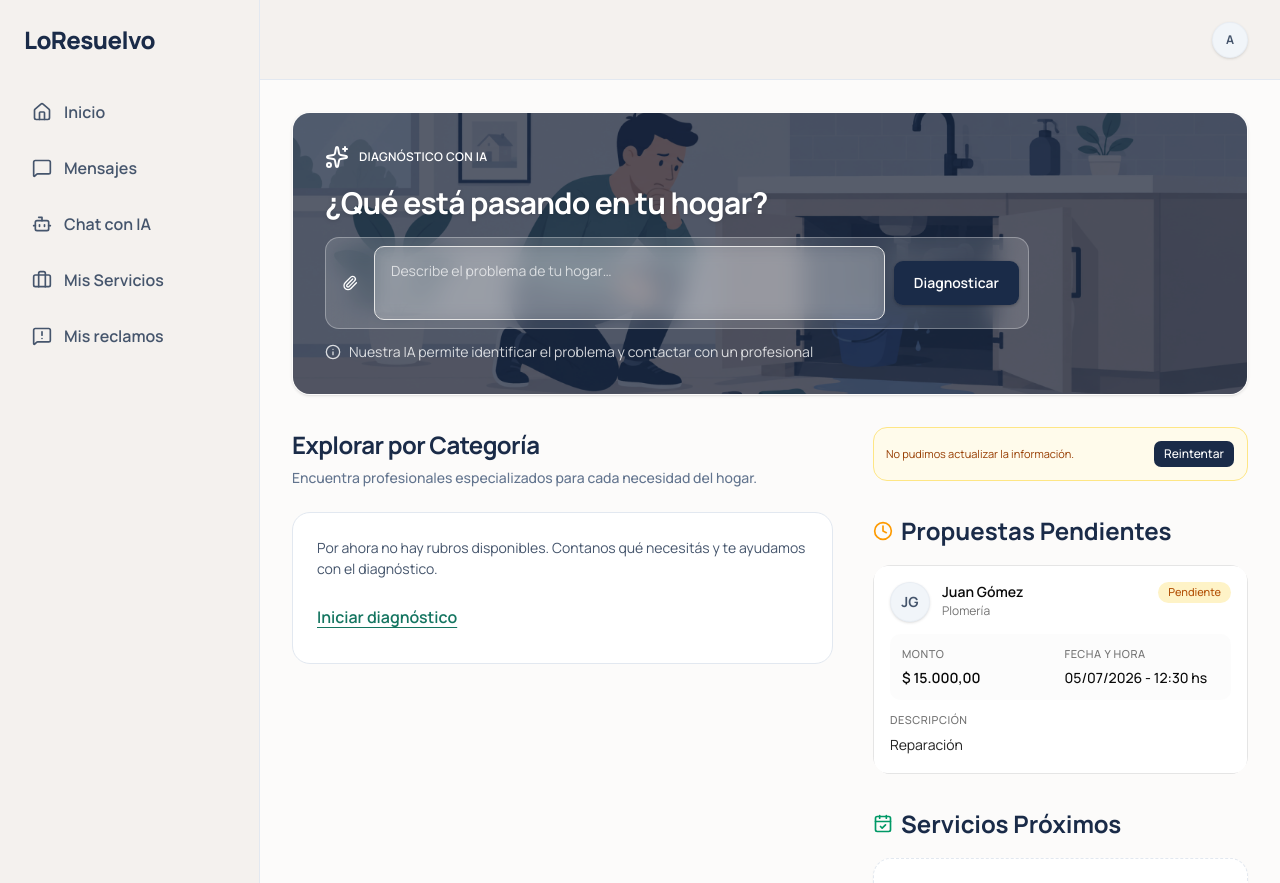
Test: ConsumerHome › preserves visible proposals and recovers after a failed refresh
Expected: the heading "Juan Gómez" is shown, top-left (942, 585), bottom-right (1024, 599)
Expected: the message shows "No pudimos actualizar la información.", top-left (886, 446), bottom-right (1074, 461)
Click the button "Reintentar" at (1194, 454), box top-left (1153, 440), bottom-right (1235, 468)
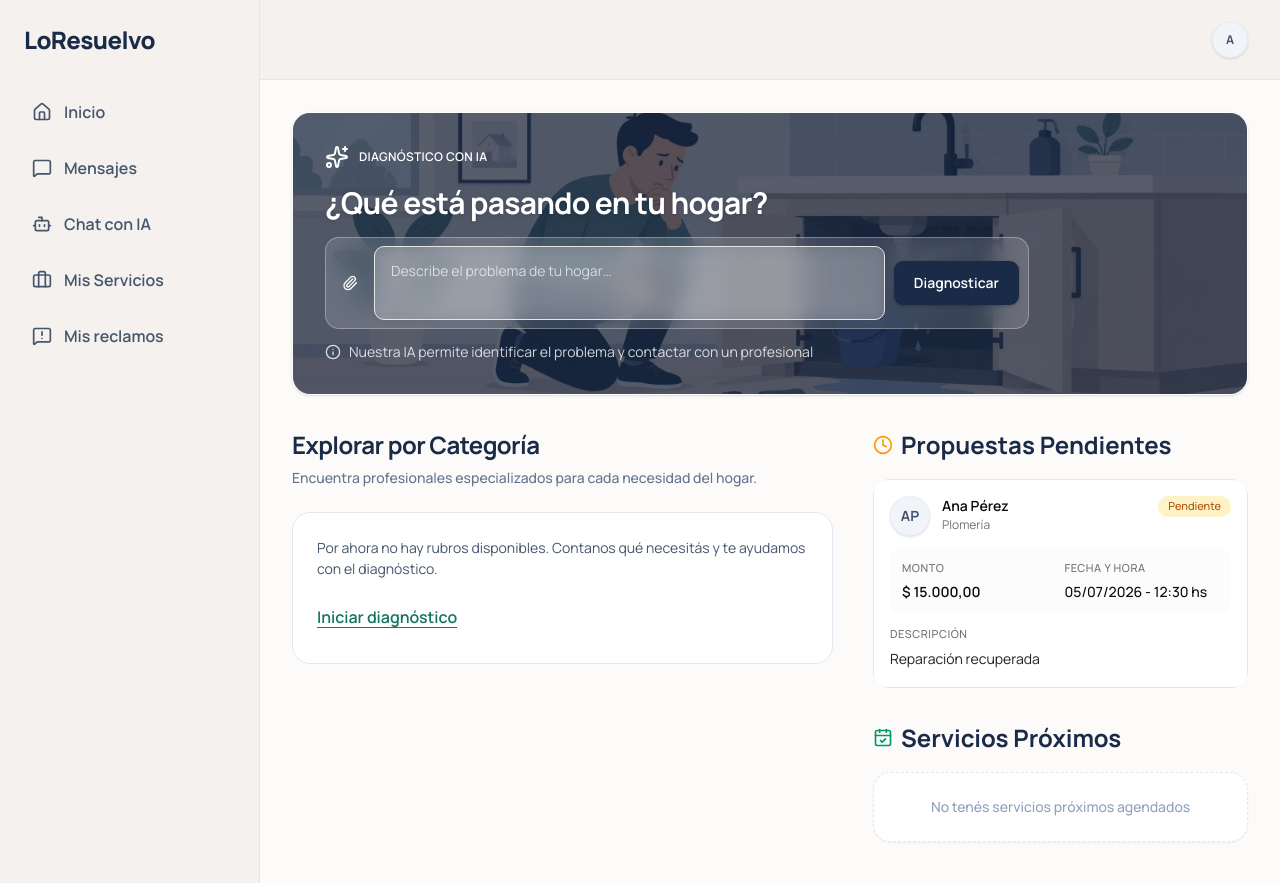
Result: the heading "Ana Pérez" is shown at top-left (942, 499), bottom-right (1009, 513)
Result: the message "No pudimos actualizar la información. Reintentar" is gone
